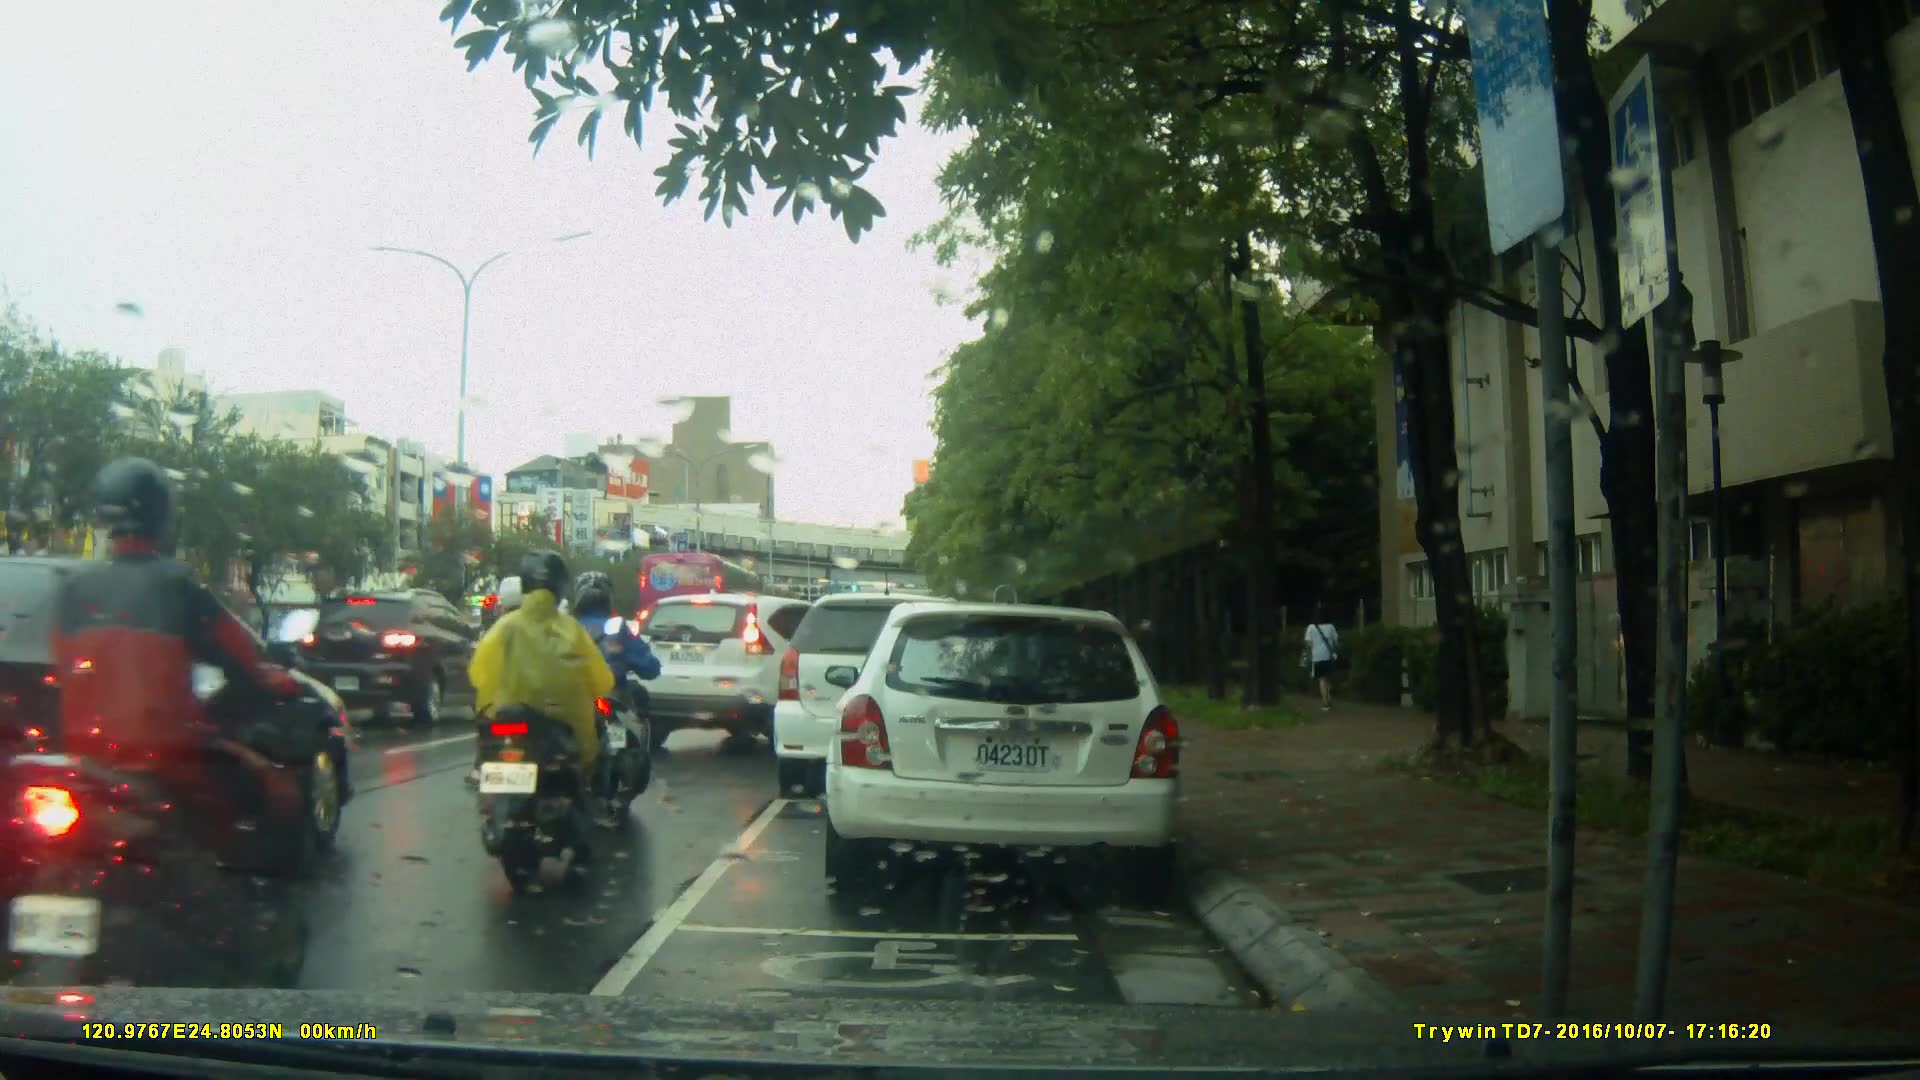pedestrian: (1294, 600, 1351, 723)
rider: (19, 467, 325, 1013), (466, 556, 615, 887), (548, 567, 664, 831), (459, 573, 546, 811)
vehicle: (1, 552, 346, 916), (835, 594, 1194, 898), (776, 590, 1026, 784), (618, 588, 877, 760), (290, 584, 500, 729), (637, 550, 766, 639)
